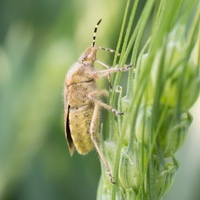insect: (64, 19, 131, 183)
